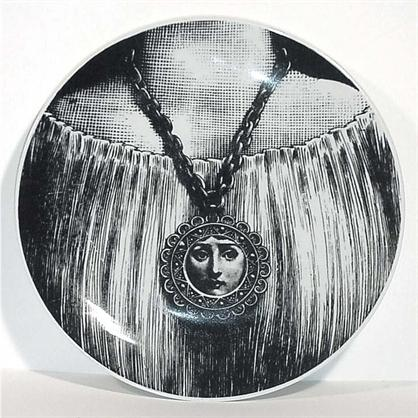person: (28, 19, 416, 390), (183, 231, 247, 294)
